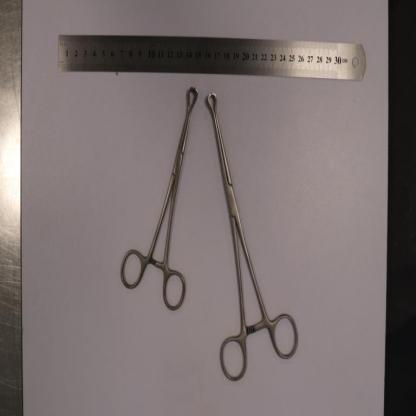8 Babcock Tissue Forceps: (208, 93, 298, 381)
Babcock Tissue Forceps: (122, 87, 198, 308)
